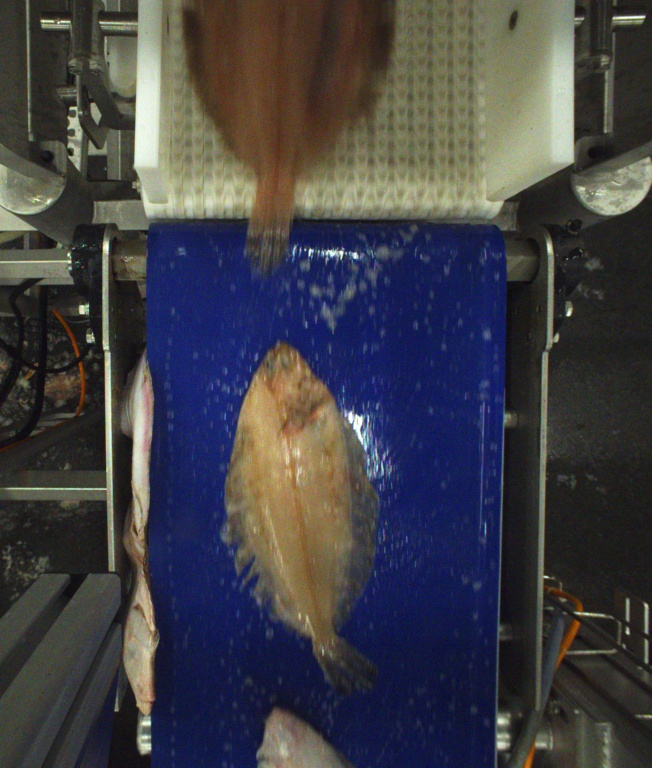WIT: (222, 337, 382, 692)
